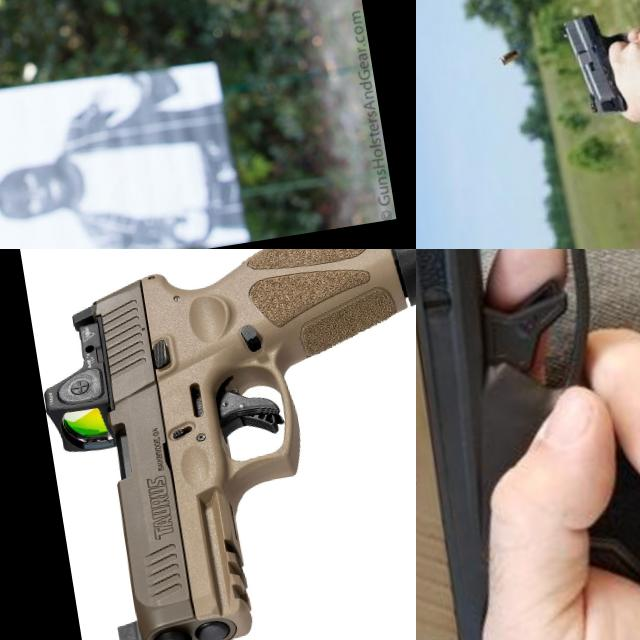handgun: (19, 249, 416, 640), (416, 249, 640, 640), (555, 5, 640, 120), (0, 0, 107, 72)
